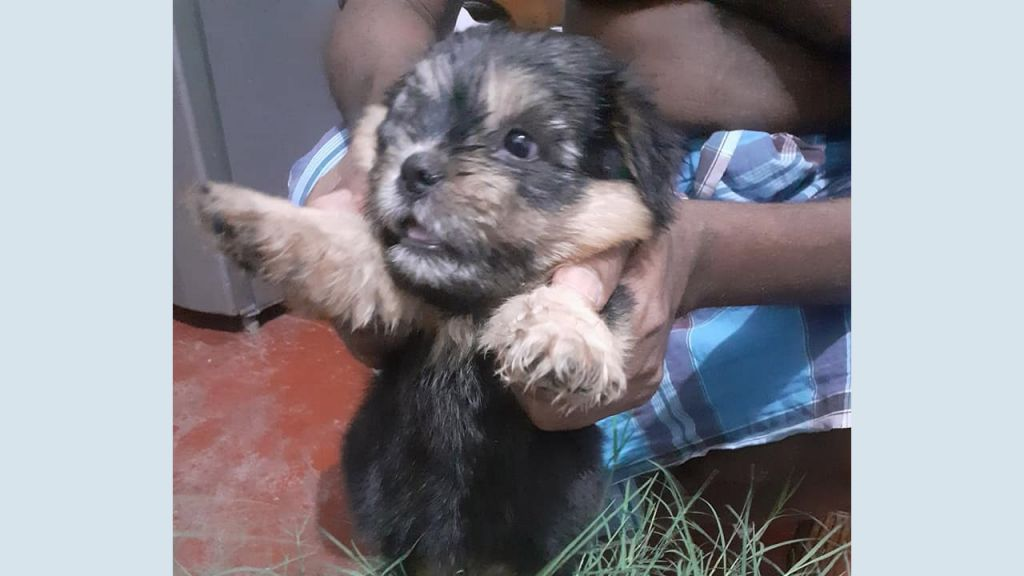Dog: (362, 6, 637, 278)
